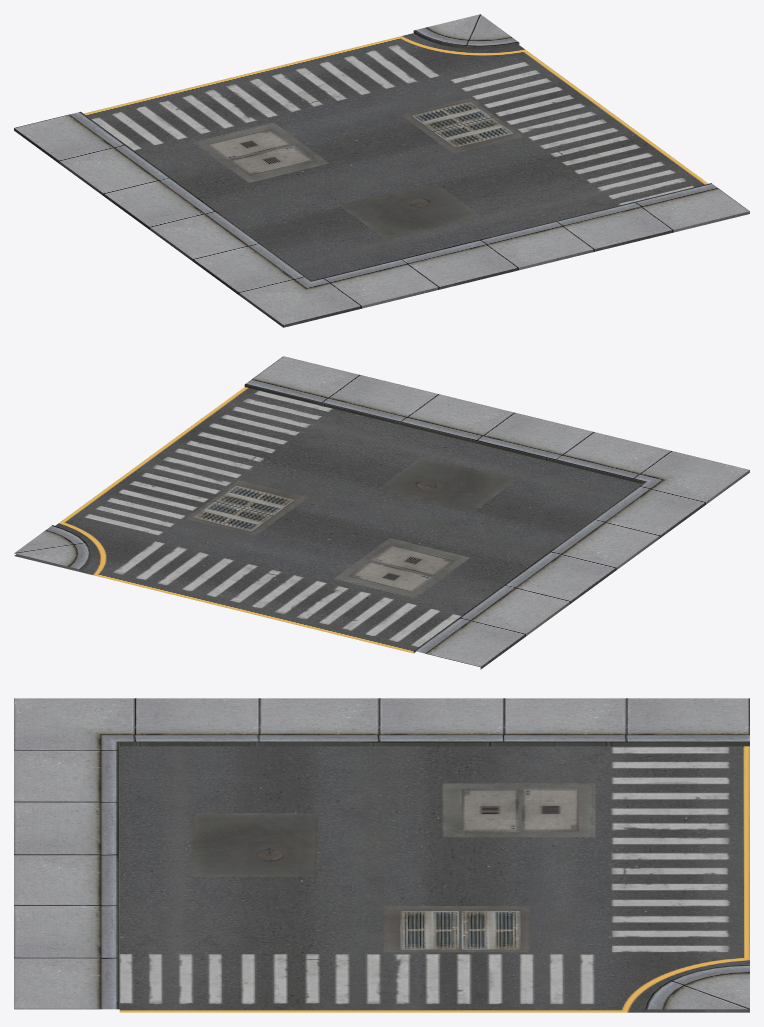
Rendered from corner.glb.
3 views of the same model, one above another, from view 1: azimuth 30°, elevation 25°; view 2: azimuth 150°, elevation 25°; view 3: azimuth 270°, elevation 25° (orthographic). The views are drawn at different scales.
Visible parts, largest first — view 1: Road_L_Intersection; view 2: Road_L_Intersection; view 3: Road_L_Intersection.
Boxes of the visible parts, <box> form: Road_L_Intersection: <box>14,14,749,327</box>; Road_L_Intersection: <box>14,356,749,669</box>; Road_L_Intersection: <box>14,698,749,1012</box>.
Size of the model in its own units: 37.92 by 0.2045 by 37.92.
Materials: 2 (2 with a texture image).
